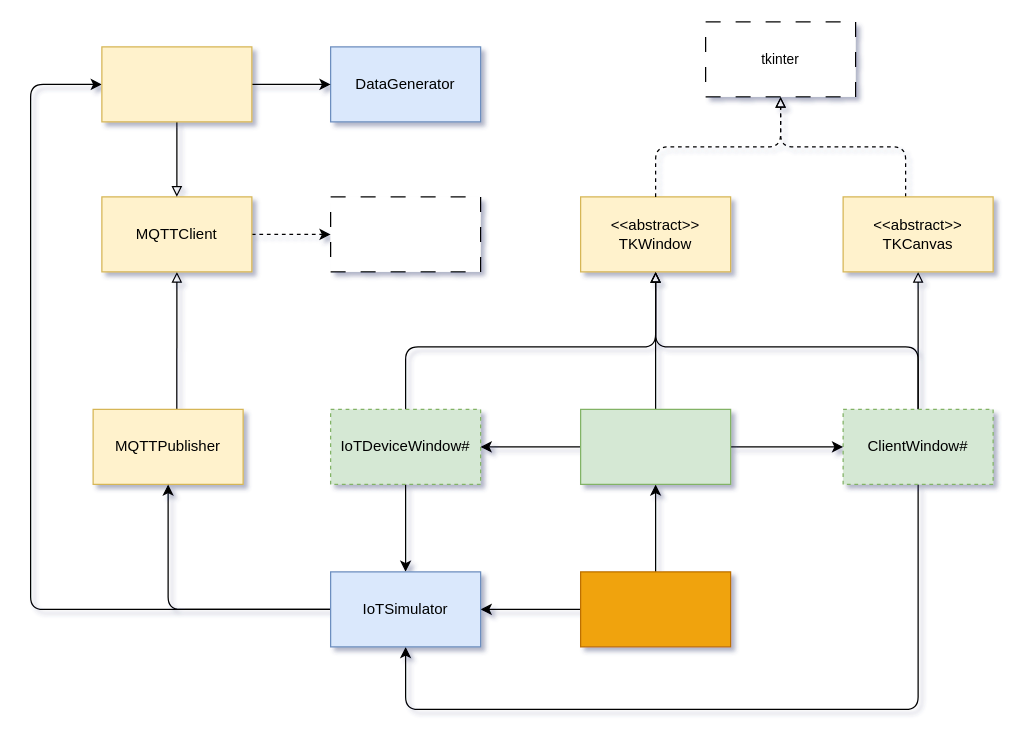
Some shapes in this 1023 by 749 pixel diagram are drawn without their labels. Each missing label, with the centre of its shape:
"Main" goes at pixel 655 609.
"MainGUI" goes at pixel 655 446.
"MQTTSubscriber" goes at pixel 176 84.
"paho.mqtt.Client" goes at pixel 405 234.
